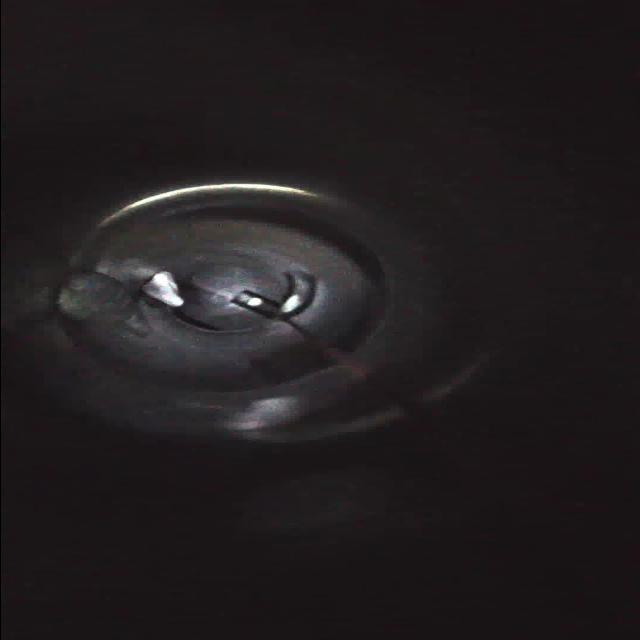impurity: (52, 271, 134, 322), (140, 270, 186, 308)
